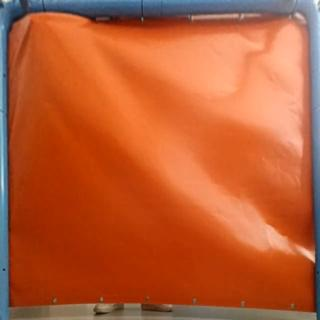Hit-hRxx: (26, 14, 40, 25)
